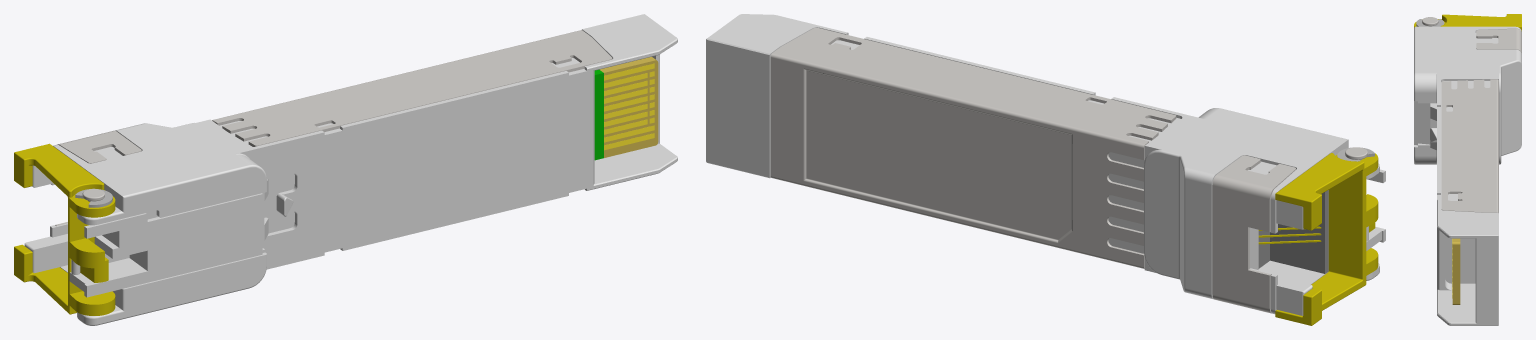
File: Медный модуль.glb
3 views of the same model, side by side, from view 1: azimuth 30°, elevation 25°; view 2: azimuth 150°, elevation 25°; view 3: azimuth 270°, elevation 25° (orthographic). The views are drawn at different scales.
Parts seen in each view (by area): view 1: Subassembly_1; view 2: Subassembly_1; view 3: Subassembly_1.
Boxes of the visible parts, bbox=[...] form: Subassembly_1: bbox=[14, 14, 677, 325]; Subassembly_1: bbox=[706, 14, 1385, 325]; Subassembly_1: bbox=[1414, 14, 1521, 325].
Size of the model in its own units: 68 by 13 by 14.
